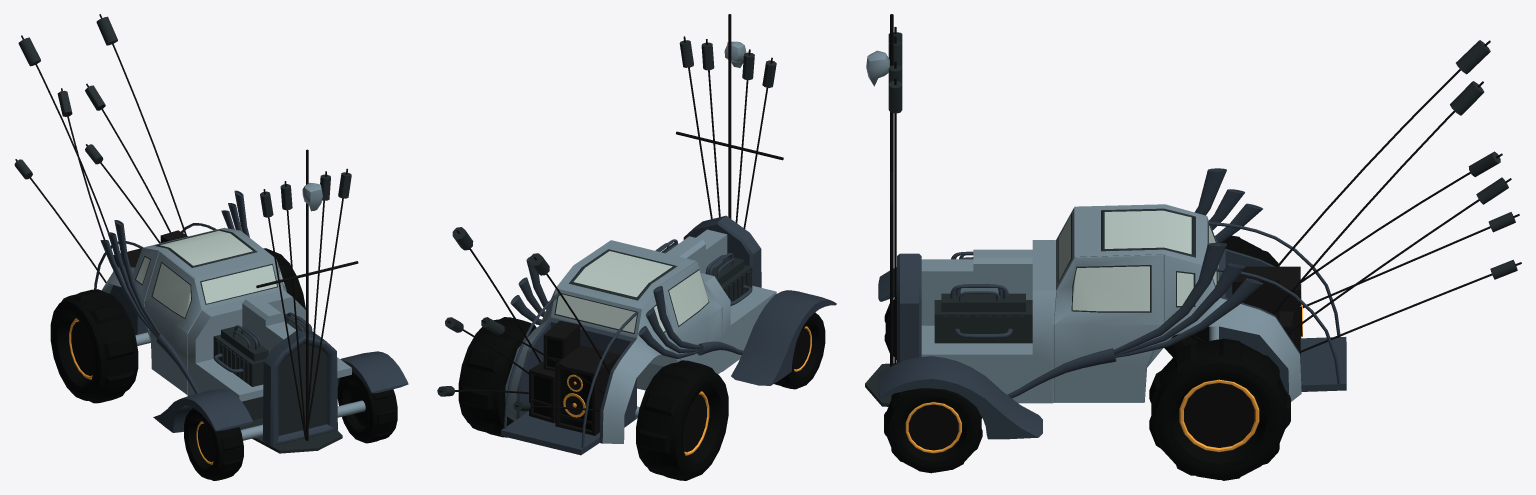
File: CarFury.FBX
The picture shows the model from 3 angles, left to right: view 1: azimuth 30°, elevation 25°; view 2: azimuth 150°, elevation 25°; view 3: azimuth 270°, elevation 25°; orthographic projection. The views are drawn at different scales.
Visible parts, largest first — view 1: Box001, Cylinder003, Cylinder020, Cylinder015, Cylinder014, Cylinder018, Cylinder016, Cylinder010, Cylinder017, Cylinder019, Cylinder013, Cylinder009 (+3 smaller); view 2: Box001, Box003, Cylinder003, Cylinder015, Cylinder018, Cylinder019, Cylinder016, Cylinder017, Cylinder014, Cylinder010, Cylinder009; view 3: Box001, Cylinder020, Box003, Cylinder015, Cylinder014, Cylinder010, Cylinder018, Cylinder013, Cylinder009, Cylinder012, Cylinder011.
Boxes of the visible parts, x1=… form: Box001: x1=50, y1=190, x2=408, y2=453; Cylinder003: x1=184, y1=408, x2=243, y2=480; Cylinder020: x1=337, y1=372, x2=397, y2=443; Cylinder015: x1=256, y1=149, x2=358, y2=440; Cylinder014: x1=96, y1=14, x2=186, y2=235; Cylinder018: x1=308, y1=168, x2=351, y2=425; Cylinder016: x1=280, y1=181, x2=305, y2=435; Cylinder010: x1=18, y1=35, x2=108, y2=232; Cylinder017: x1=260, y1=189, x2=305, y2=439; Cylinder019: x1=308, y1=171, x2=330, y2=412; Cylinder013: x1=85, y1=83, x2=170, y2=232; Cylinder009: x1=57, y1=88, x2=105, y2=239; Box001: x1=458, y1=215, x2=836, y2=480; Box003: x1=529, y1=320, x2=620, y2=435; Cylinder003: x1=774, y1=312, x2=825, y2=389; Cylinder015: x1=676, y1=14, x2=783, y2=218; Cylinder018: x1=679, y1=36, x2=712, y2=219; Cylinder019: x1=701, y1=39, x2=720, y2=217; Cylinder016: x1=735, y1=49, x2=754, y2=222; Cylinder017: x1=743, y1=57, x2=776, y2=228; Cylinder014: x1=452, y1=227, x2=541, y2=362; Cylinder010: x1=529, y1=253, x2=610, y2=374; Cylinder009: x1=481, y1=317, x2=604, y2=394; Box001: x1=865, y1=168, x2=1346, y2=480; Cylinder020: x1=884, y1=388, x2=982, y2=473; Box003: x1=1232, y1=266, x2=1302, y2=362; Cylinder015: x1=866, y1=14, x2=893, y2=366; Cylinder014: x1=1272, y1=81, x2=1484, y2=314; Cylinder010: x1=1276, y1=40, x2=1490, y2=266; Cylinder018: x1=888, y1=78, x2=902, y2=364; Cylinder013: x1=1287, y1=177, x2=1511, y2=334; Cylinder009: x1=1300, y1=151, x2=1502, y2=283; Cylinder012: x1=1299, y1=259, x2=1521, y2=352; Cylinder011: x1=1303, y1=212, x2=1519, y2=308.
Size of the model in its own units: 65.16 by 95.86 by 140.
